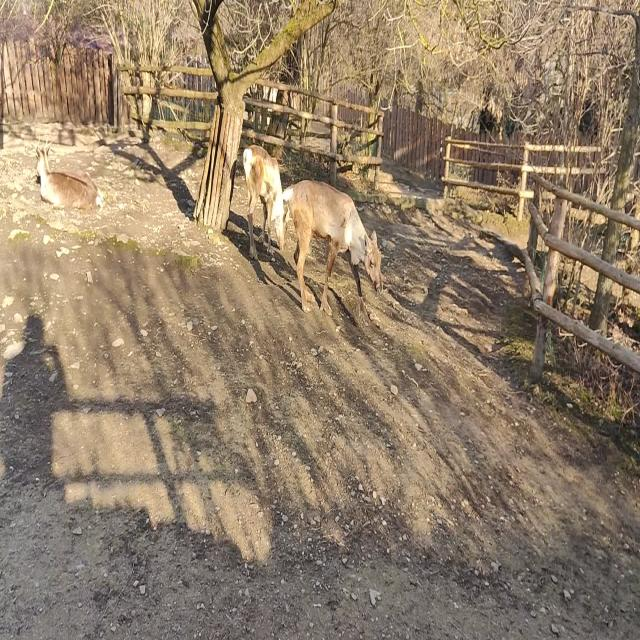deer: (282, 180, 383, 327), (243, 144, 290, 260), (32, 134, 102, 211)
